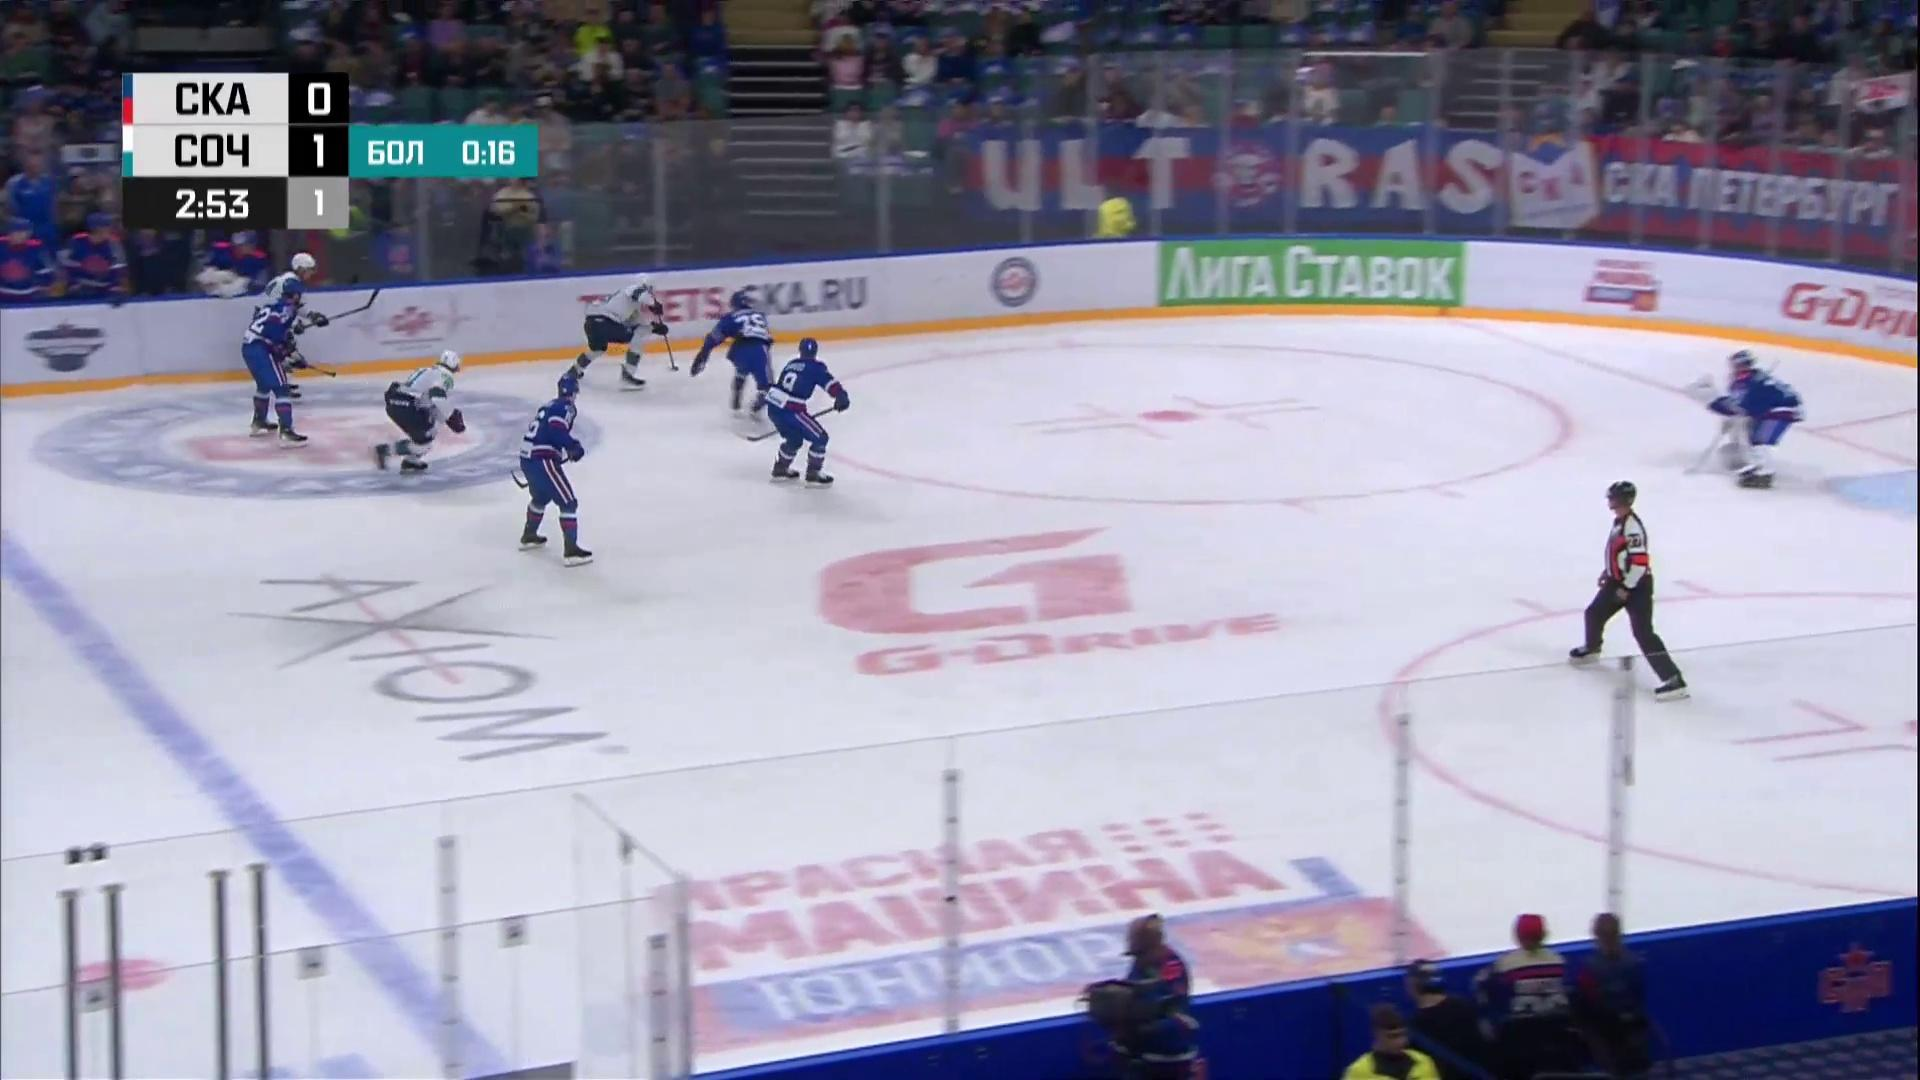ball: (675, 367, 679, 371)
